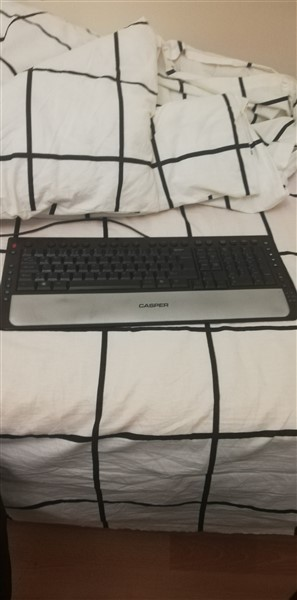klavye: (2, 230, 297, 328)
